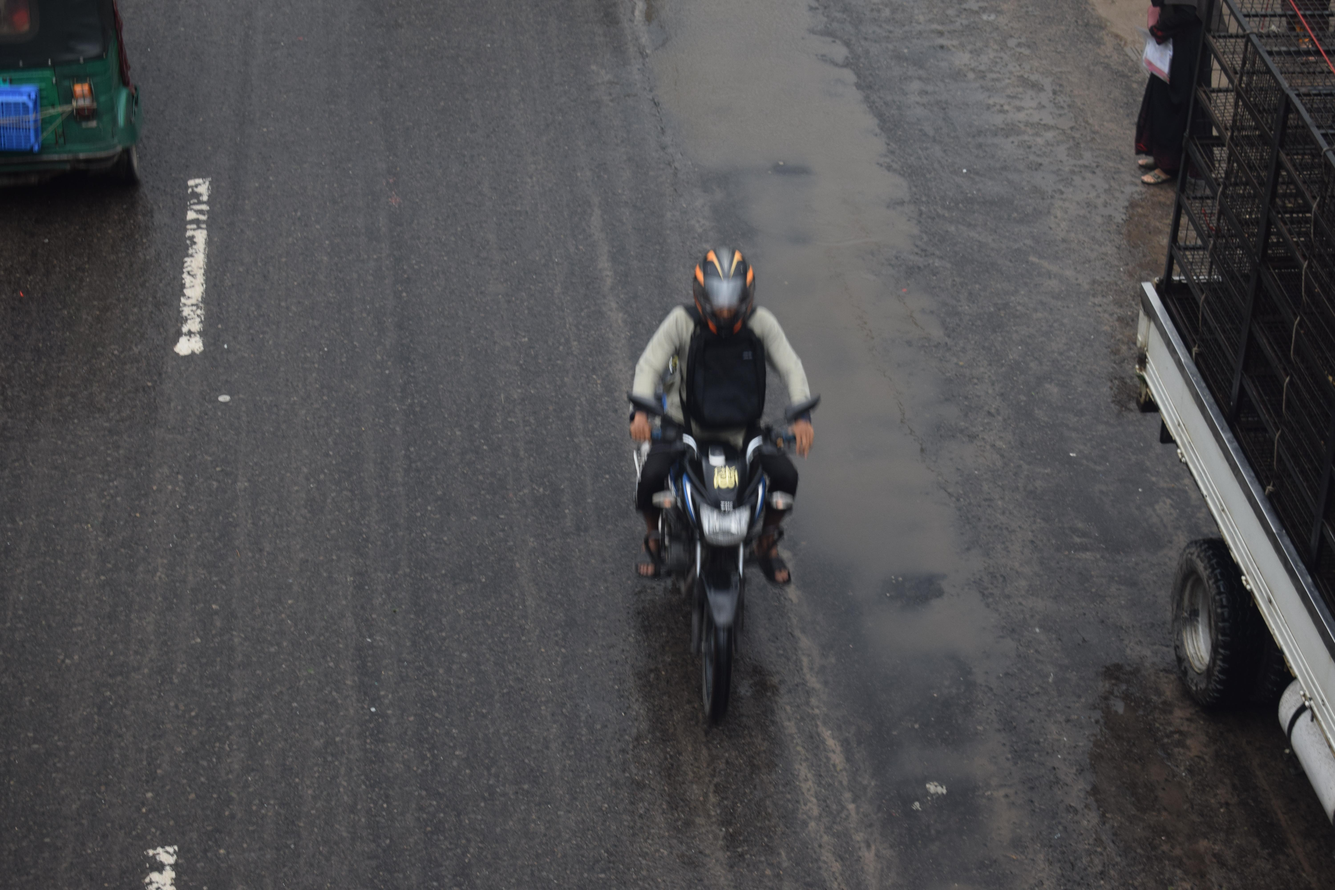Bike: (517, 181, 900, 776)
